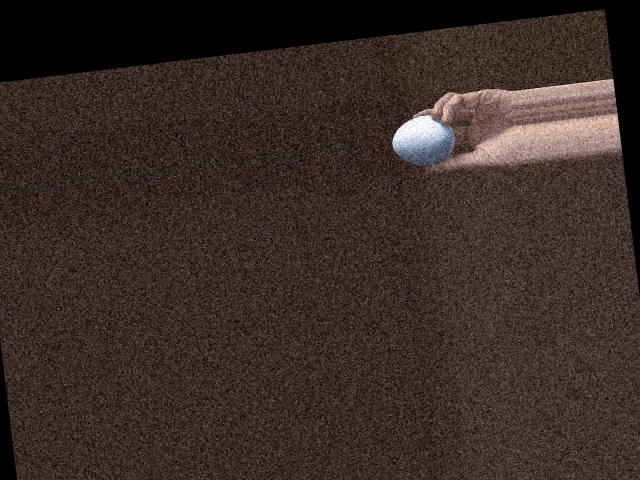egg: (388, 111, 457, 168)
